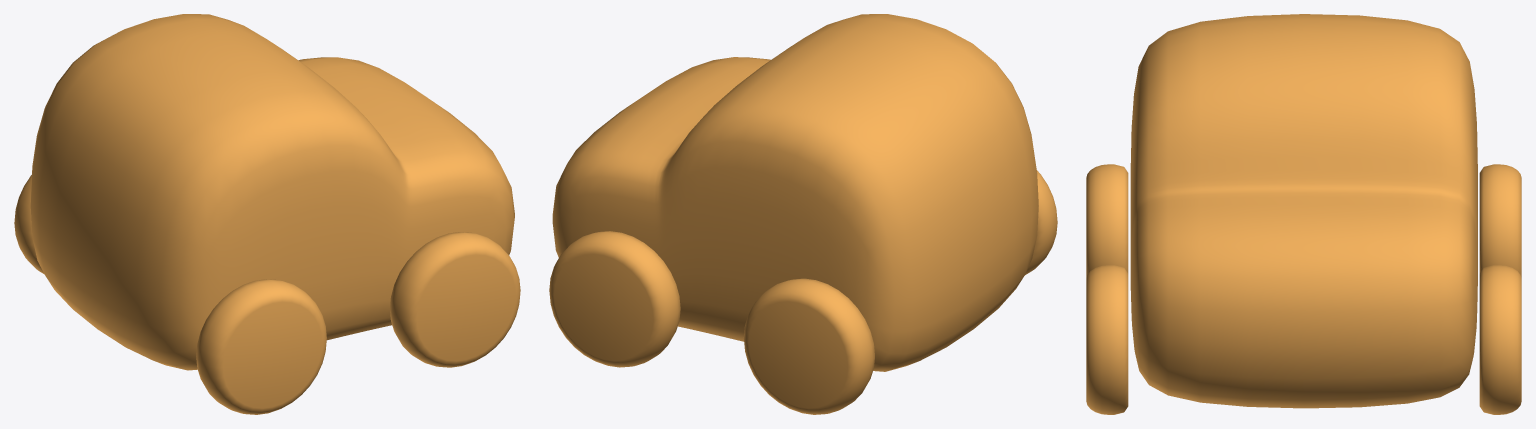
The model's file is car.fbx.
The picture shows the model from 3 angles, left to right: view 1: azimuth 30°, elevation 25°; view 2: azimuth 150°, elevation 25°; view 3: azimuth 270°, elevation 25°; orthographic projection. The views are drawn at different scales.
Visible parts, largest first — view 1: Cube, Circle.003, Circle.002, Circle.001; view 2: Cube, Circle, Circle.001, Circle.002; view 3: Cube, Circle, Circle.003, Circle.001, Circle.002.
Boxes of the visible parts, box(x1,y1,x2,y2) form: Cube: box(30, 14, 514, 370); Circle.003: box(389, 232, 520, 367); Circle.002: box(196, 279, 326, 414); Circle.001: box(14, 175, 44, 274); Cube: box(552, 14, 1038, 371); Circle: box(549, 231, 680, 367); Circle.001: box(743, 278, 874, 414); Circle.002: box(1025, 170, 1057, 274); Cube: box(1130, 14, 1477, 408); Circle: box(1479, 265, 1521, 414); Circle.003: box(1086, 265, 1128, 414); Circle.001: box(1479, 164, 1521, 277); Circle.002: box(1086, 164, 1128, 277).
Bounding box in the file's own units: 466 × 322 × 429.
